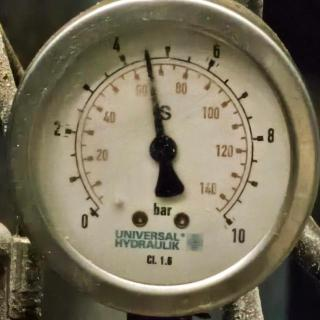gauge: (23, 11, 307, 298), (206, 198, 250, 248), (72, 190, 112, 234), (148, 134, 178, 164), (139, 44, 153, 61)
